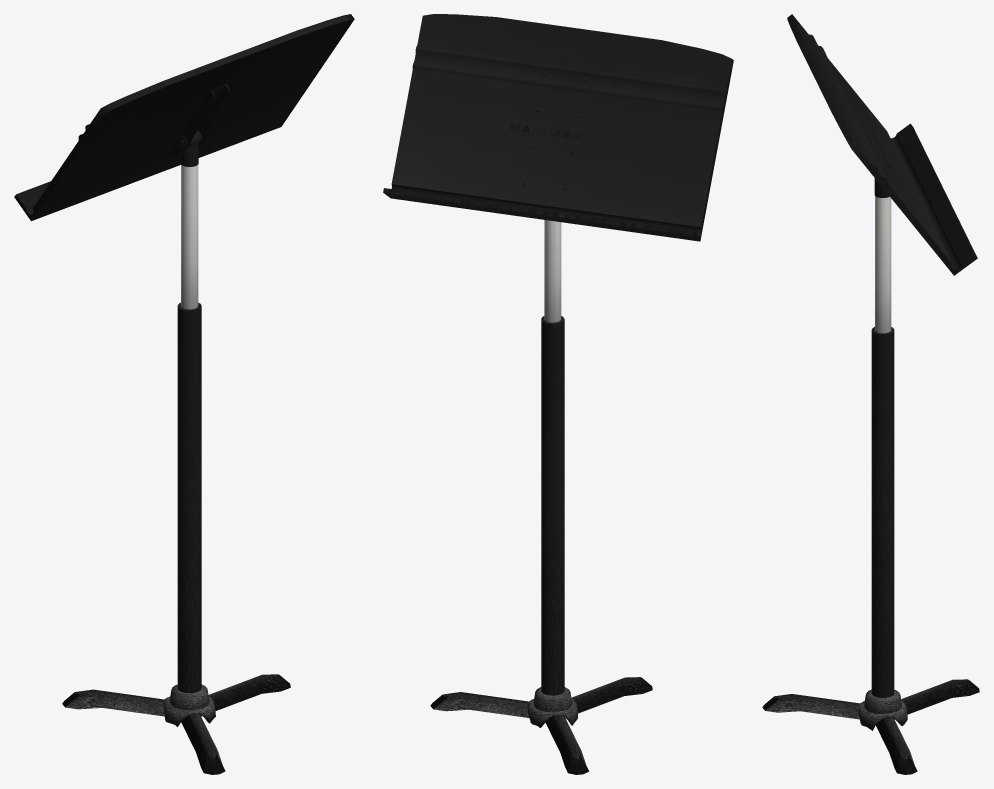
Rendered from Music Stand.fbx.
3 renders of one model, left to right at view 1: azimuth 30°, elevation 25°; view 2: azimuth 150°, elevation 25°; view 3: azimuth 270°, elevation 25°, orthographic. The views are drawn at different scales.
Visible parts, largest first — view 1: Music_Stand_full; view 2: Music_Stand_full; view 3: Music_Stand_full.
Boxes of the visible parts, x1=… form: Music_Stand_full: x1=14, y1=14, x2=354, y2=774; Music_Stand_full: x1=383, y1=14, x2=733, y2=774; Music_Stand_full: x1=762, y1=14, x2=979, y2=774.
Size of the model in its own units: 15.06 by 32.06 by 9.69.
Materials: 3 (3 with a texture image).
